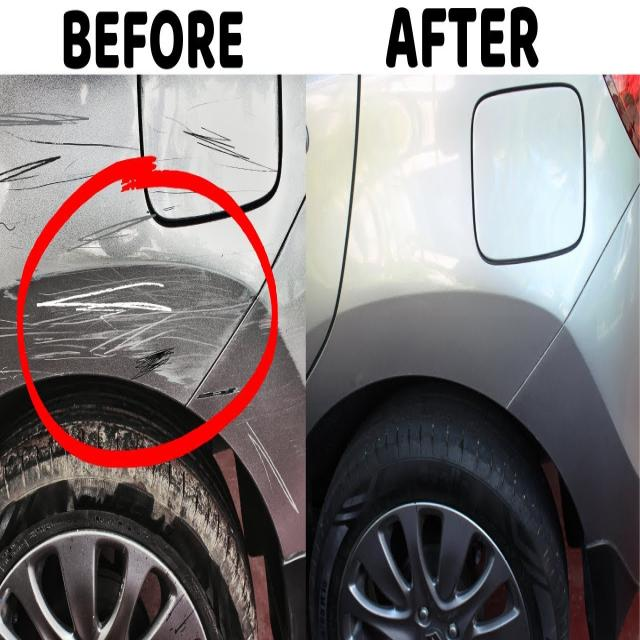scratch: (0, 89, 306, 535)
